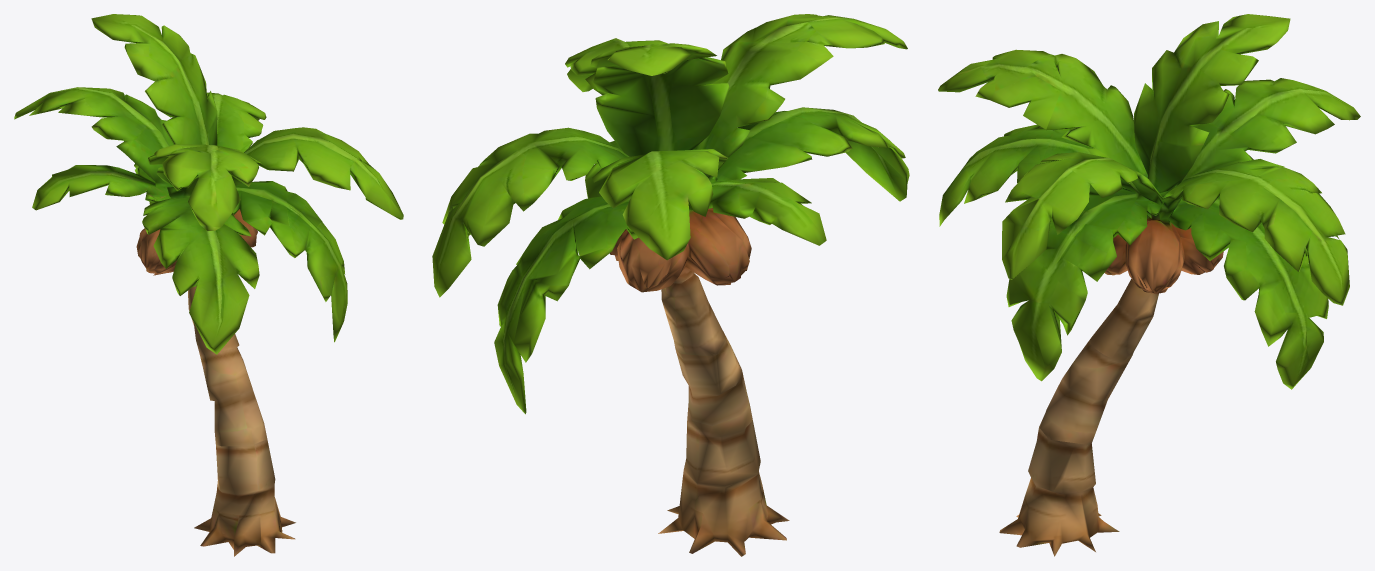
Rendered from palmera.glb.
3 renders of one model, left to right at view 1: azimuth 30°, elevation 25°; view 2: azimuth 150°, elevation 25°; view 3: azimuth 270°, elevation 25°, orthographic. The views are drawn at different scales.
Parts seen in each view (by area): view 1: tripo_node_02b6c2bc-1e2c-4dab-bc31-6cc2a5d4cce6; view 2: tripo_node_02b6c2bc-1e2c-4dab-bc31-6cc2a5d4cce6; view 3: tripo_node_02b6c2bc-1e2c-4dab-bc31-6cc2a5d4cce6.
Part boxes in pixels (bbox=[...]): tripo_node_02b6c2bc-1e2c-4dab-bc31-6cc2a5d4cce6: bbox=[14, 14, 403, 556]; tripo_node_02b6c2bc-1e2c-4dab-bc31-6cc2a5d4cce6: bbox=[432, 14, 909, 556]; tripo_node_02b6c2bc-1e2c-4dab-bc31-6cc2a5d4cce6: bbox=[938, 14, 1360, 556].
Bounding box in the file's own units: 0.6501 × 0.9979 × 0.7764.
1 material, 1 textured.
